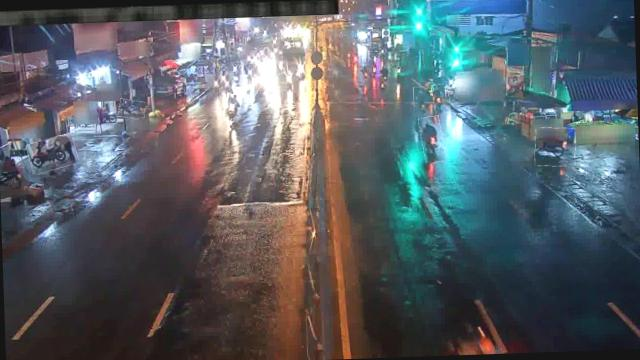Bike: (28, 134, 78, 172), (534, 128, 576, 168), (419, 116, 444, 162), (119, 99, 146, 120), (432, 84, 450, 114), (223, 94, 242, 122), (413, 88, 426, 112)
